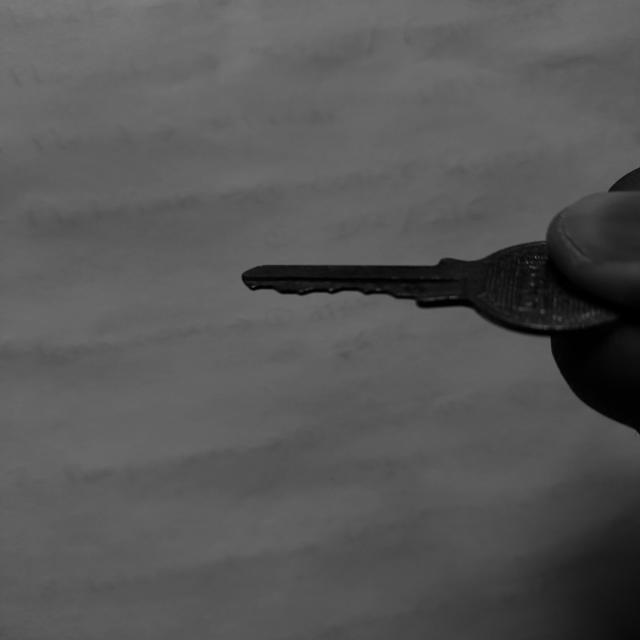KEY: (242, 242, 622, 334)
